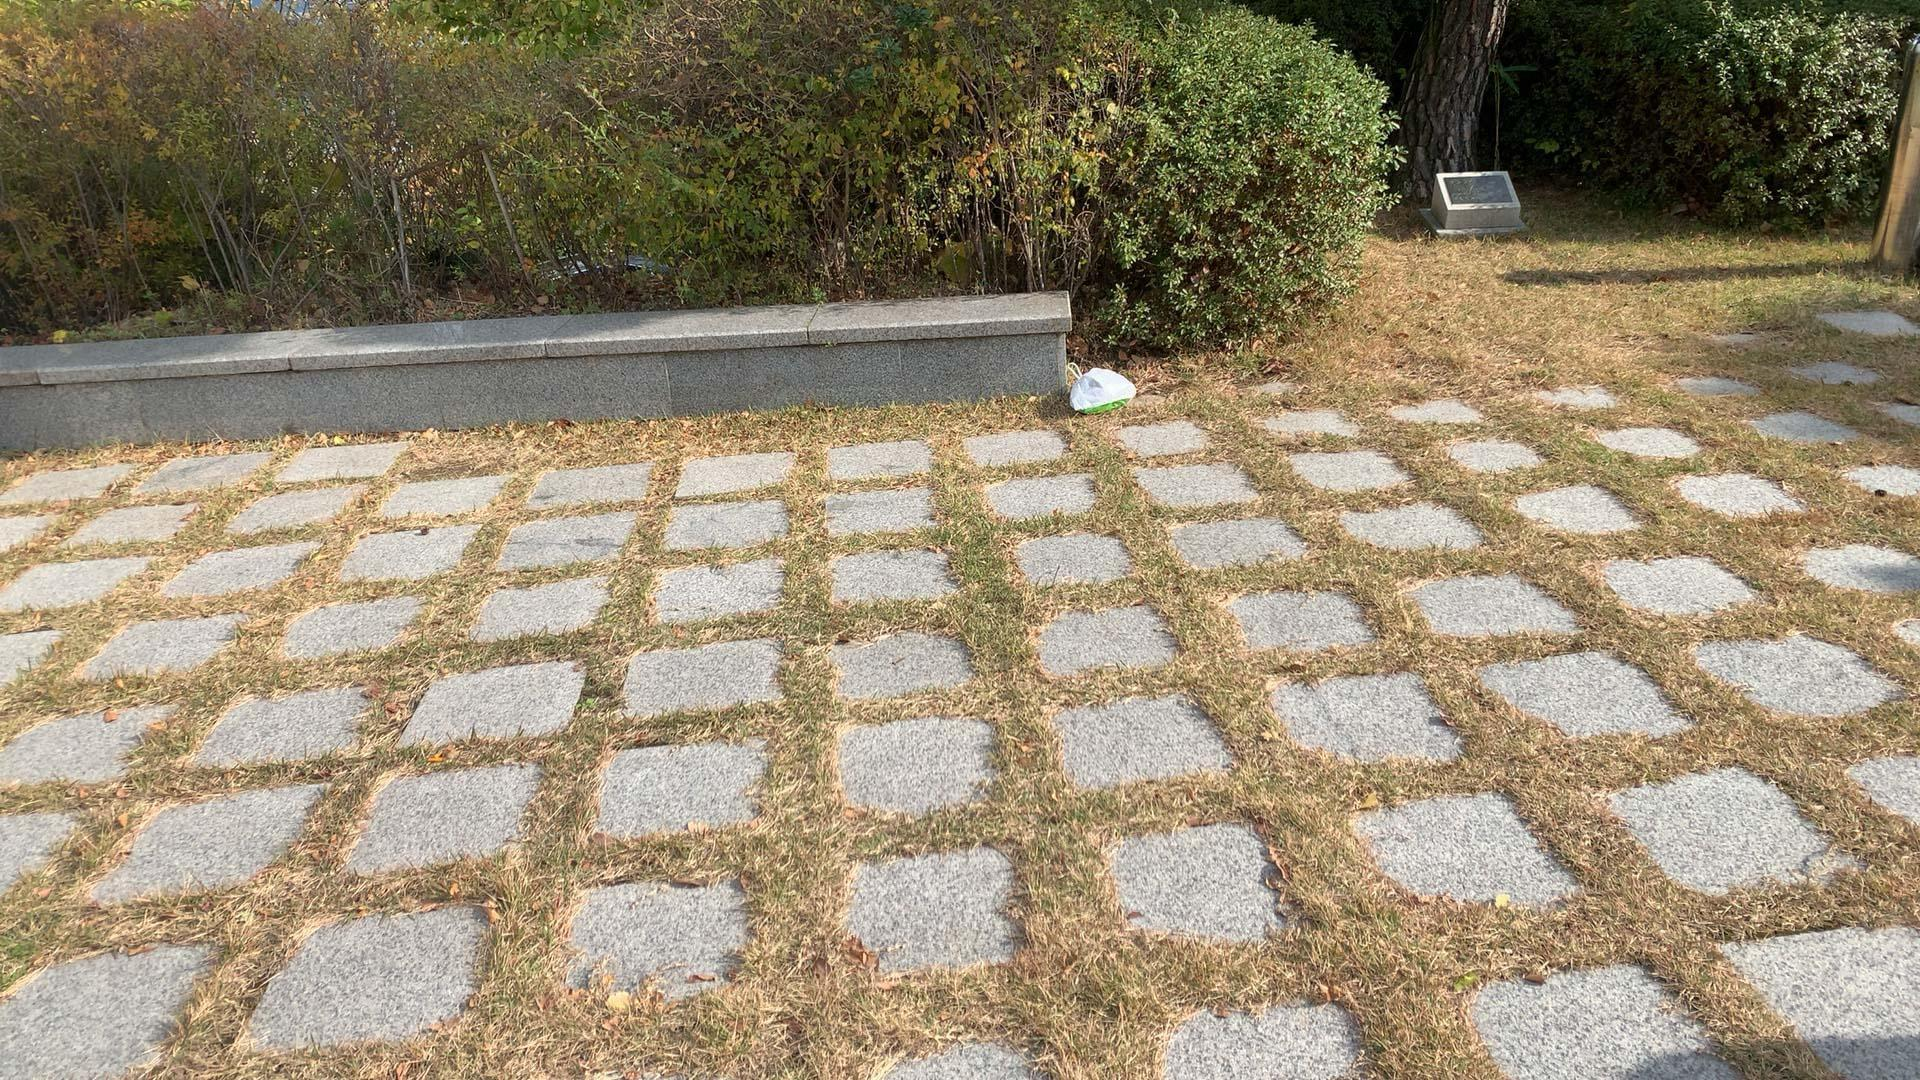white_bag: (1058, 357, 1139, 417)
